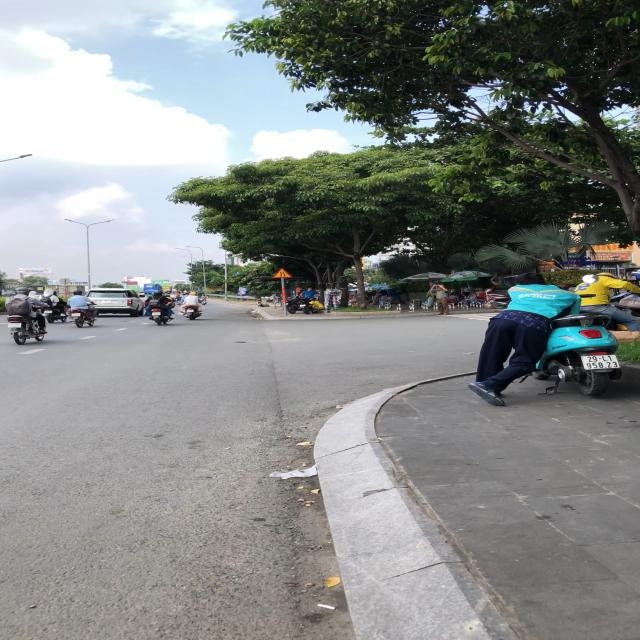Bien bao duong bi thu hep: (271, 268, 293, 278)
